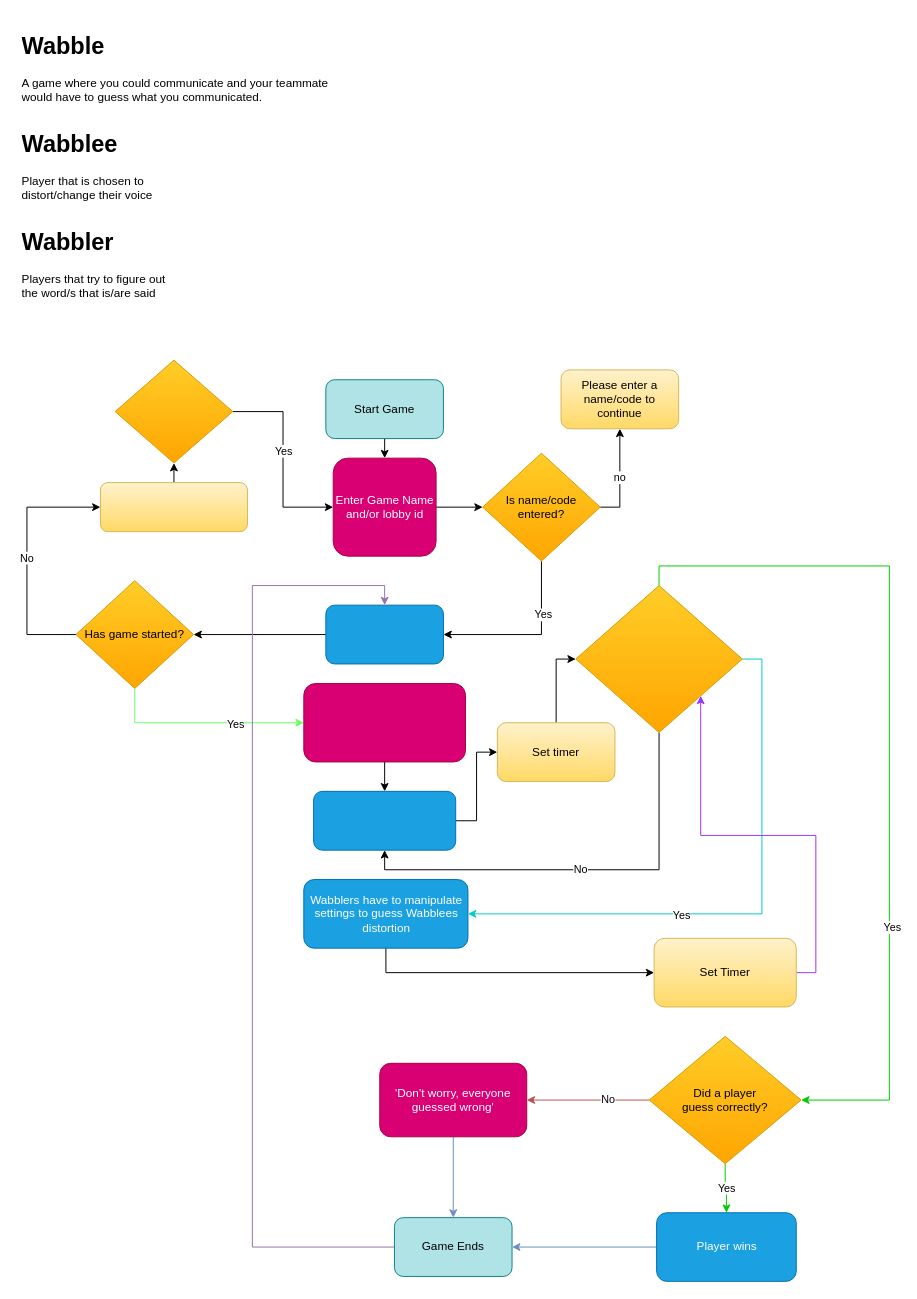
Image size: 917x1299. Some labels were removed from this diagram. The shapes that lost their labels are listed below. From the top down, each one's box as (x1, y1, x2, y2) in pixels, then its label:
(114, 359, 233, 463): Is timer up?
(99, 482, 247, 532): Set timeout timer to 10 minutes
(325, 604, 443, 664): Enter pre game lobby
(575, 585, 742, 733): Has timer ended or did player submit distortion?
(303, 683, 466, 762): Player is chosen at random to be the wabblee
(313, 790, 456, 850): Player uses distortion settings to distort voice
